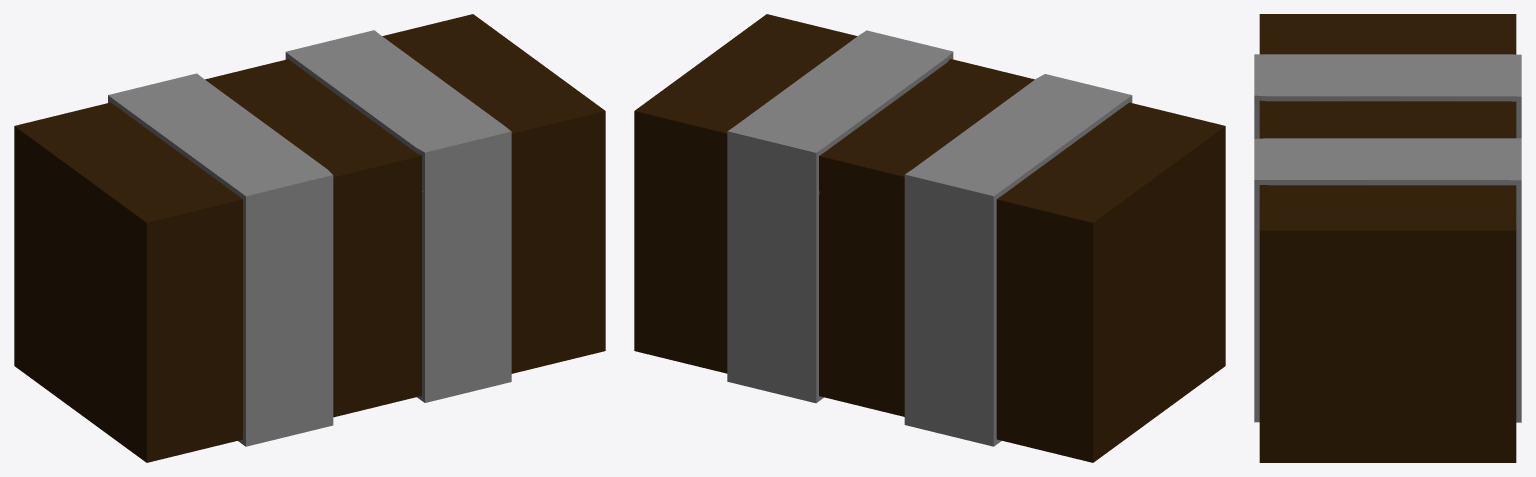
Rendered from salon_cofre.fbx.
3 renders of one model, left to right at view 1: azimuth 30°, elevation 25°; view 2: azimuth 150°, elevation 25°; view 3: azimuth 270°, elevation 25°, orthographic. The views are drawn at different scales.
Visible parts, largest first — view 1: baul, tapa; view 2: baul, tapa; view 3: tapa, baul.
Part boxes in pixels (x1=…): baul: x1=14, y1=151, x2=605, y2=462; tapa: x1=14, y1=14, x2=605, y2=262; baul: x1=634, y1=151, x2=1225, y2=462; tapa: x1=634, y1=14, x2=1225, y2=262; tapa: x1=1254, y1=14, x2=1521, y2=269; baul: x1=1254, y1=134, x2=1521, y2=462.
Bounding box in the file's own units: 120 × 62.6 × 62.6.
